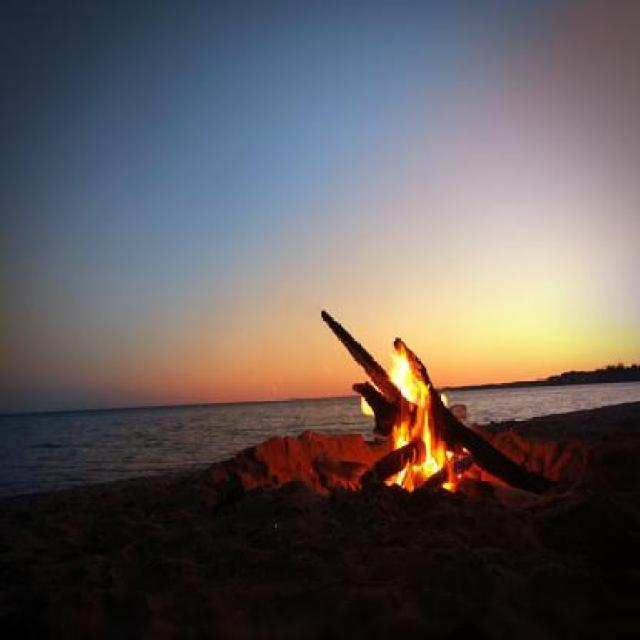Fire: (358, 344, 464, 500)
